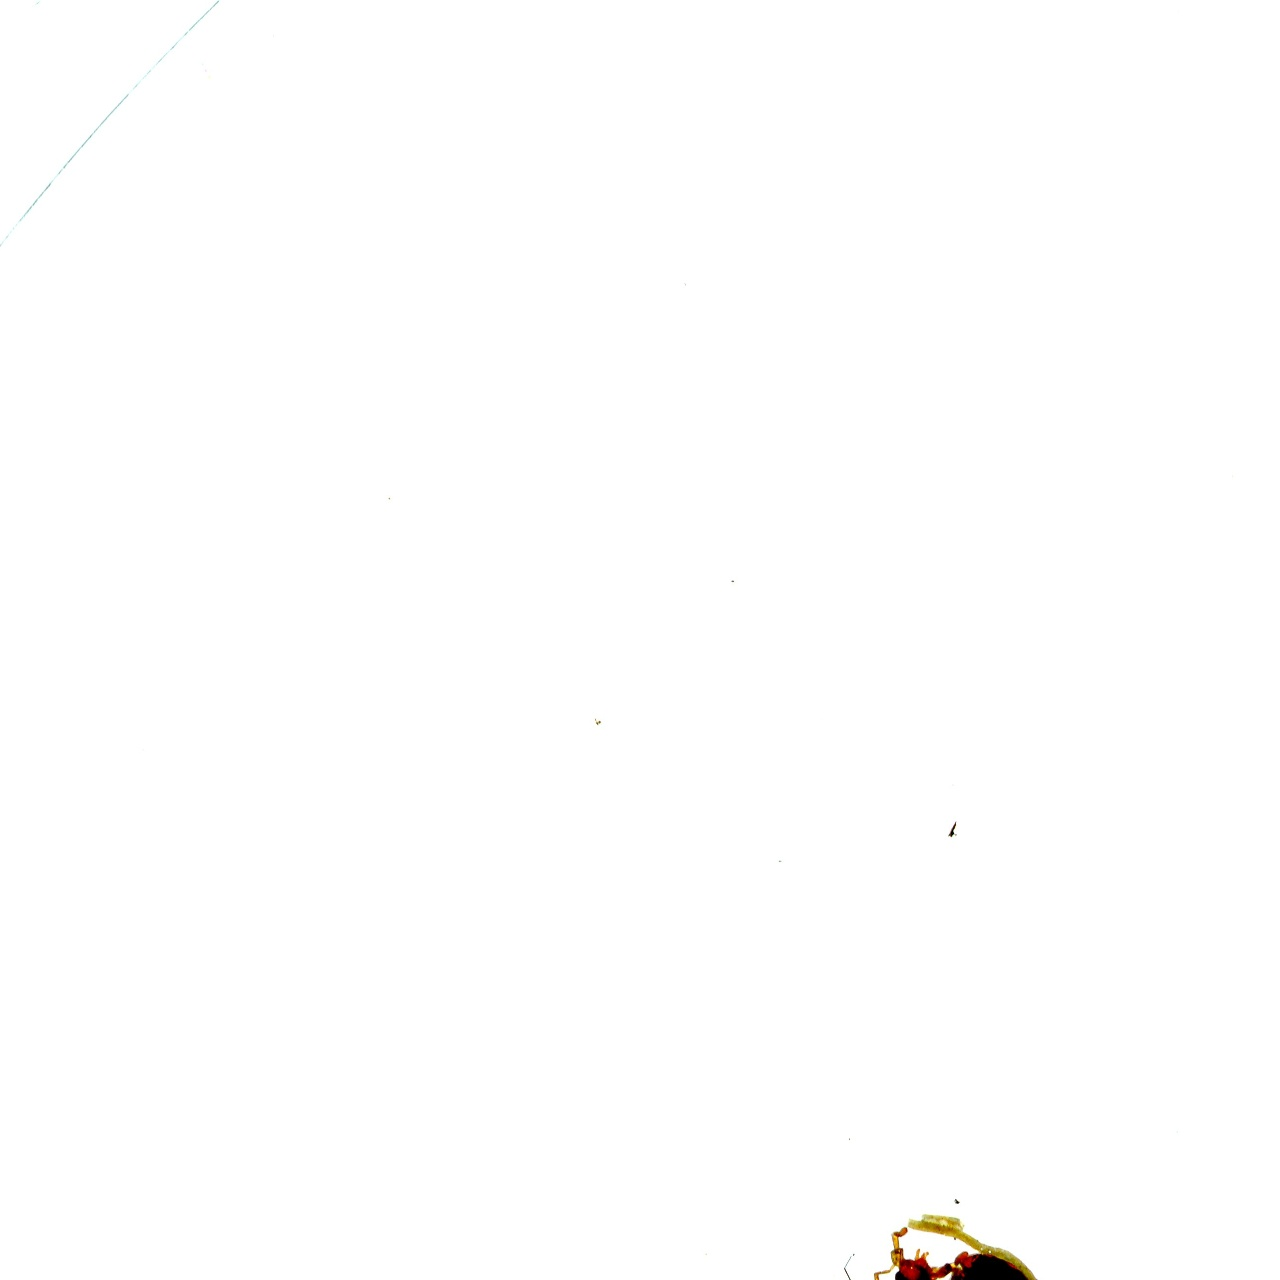arthropod: (908, 1191, 1136, 1280), (859, 1226, 967, 1280)
